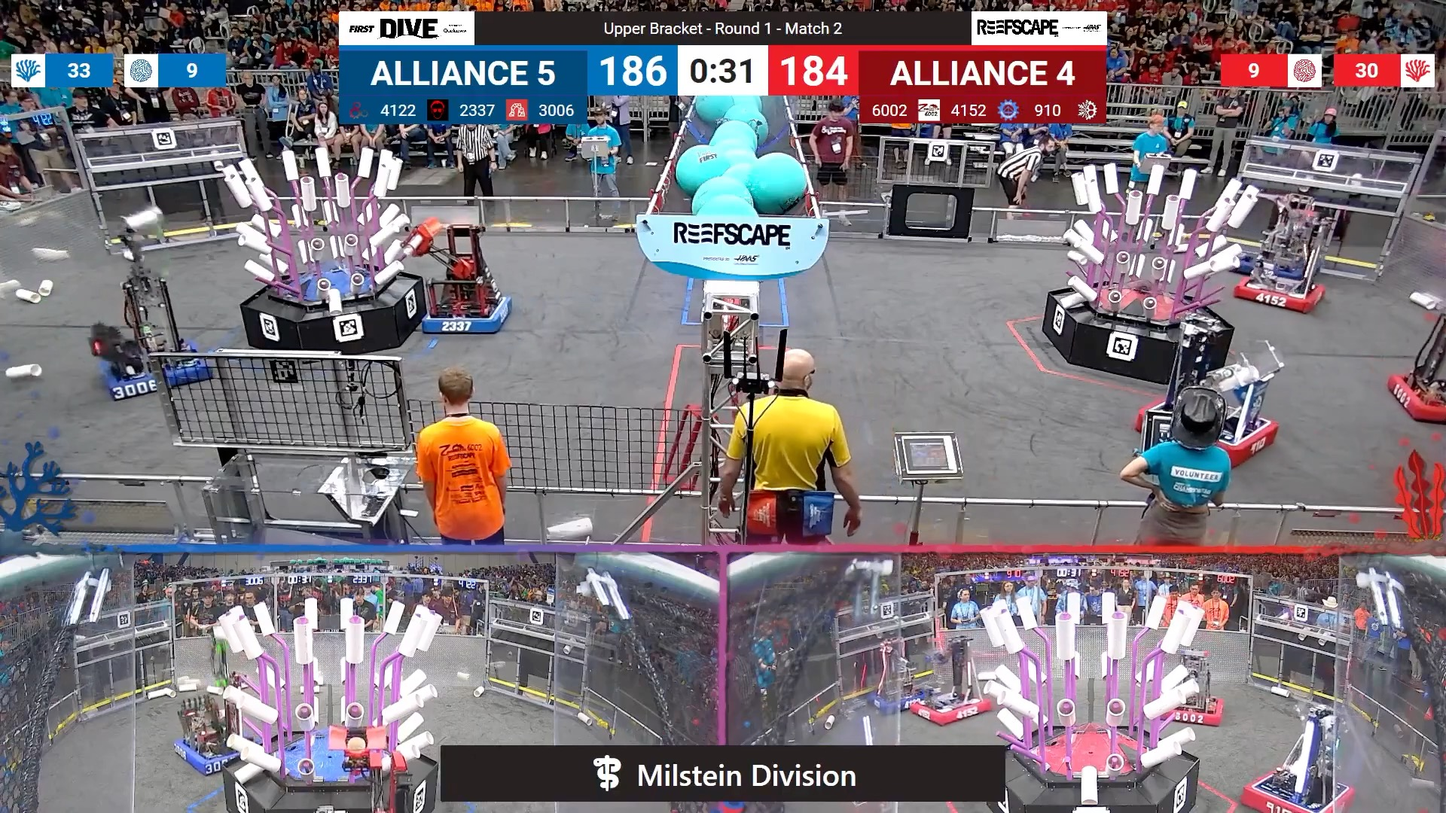bumpers: (1131, 399, 1286, 467), (88, 333, 217, 398), (415, 283, 517, 341), (1223, 269, 1335, 317), (1237, 769, 1359, 812), (1381, 367, 1445, 435), (898, 690, 1000, 727), (166, 733, 253, 775), (1153, 691, 1229, 728)
